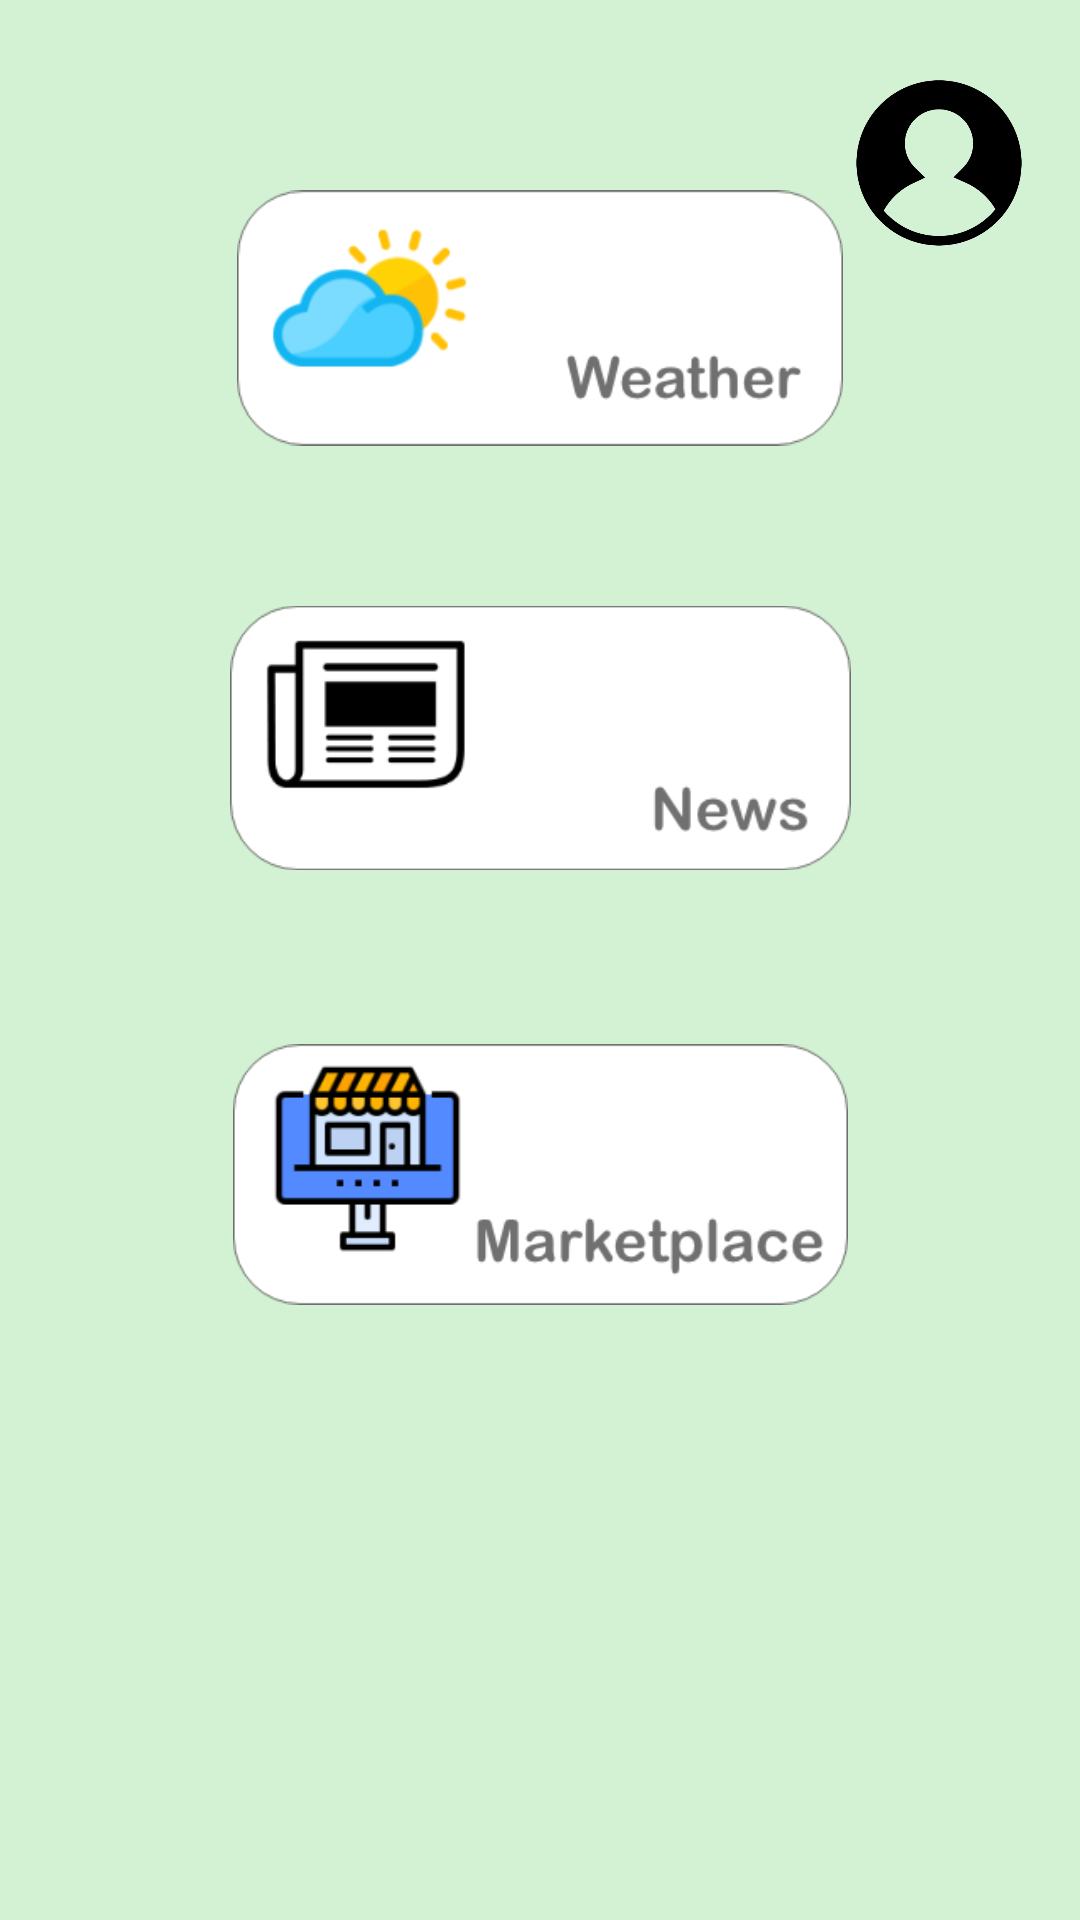

Screen size 1080w x 1920h. Icon name, then its center in pixels as [x,y]:
profile: [939,163]
